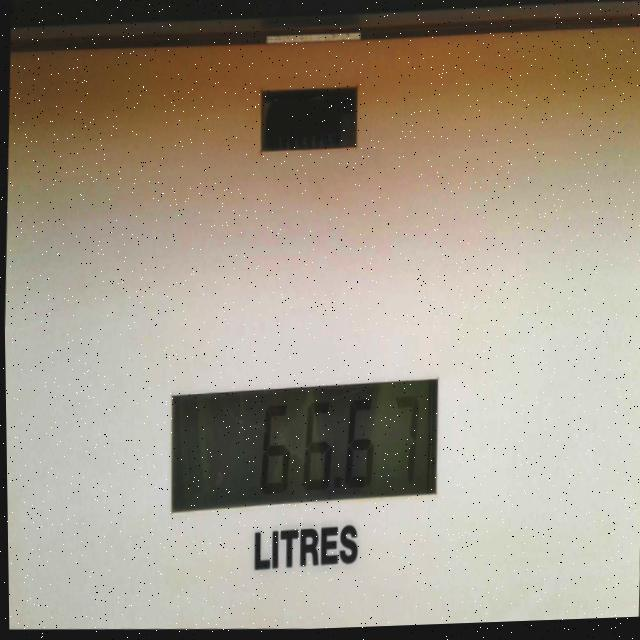.: (327, 472, 344, 501)
6: (292, 384, 333, 505), (249, 399, 295, 501), (339, 396, 382, 501)
7: (384, 392, 422, 493)
